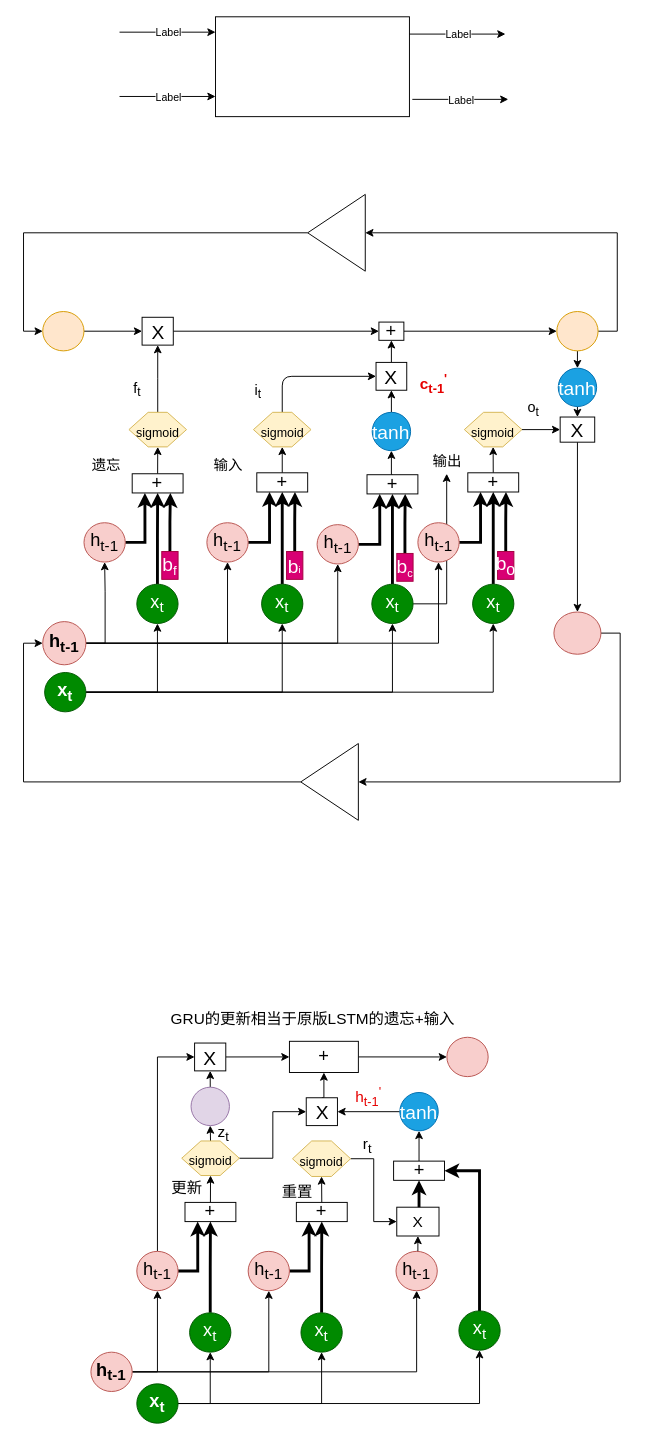
The diagram is 645 pixels wide and 1440 high, and some of its shapes have lost their labels. Each missing label, with the centre of its shape:
c t: the point at 577,331
c t-1: the point at 63,331
h t: the point at 467,1056
ht: the point at 577,632
取反: the point at 209,1106
